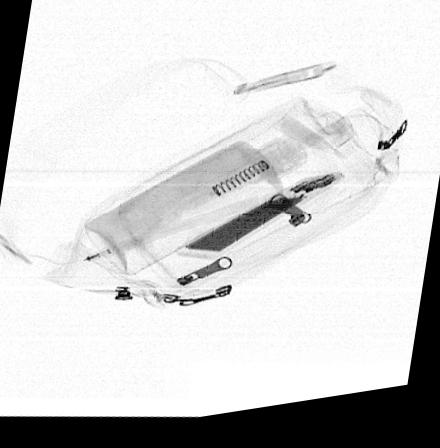Powerbank: (175, 182, 347, 266)
